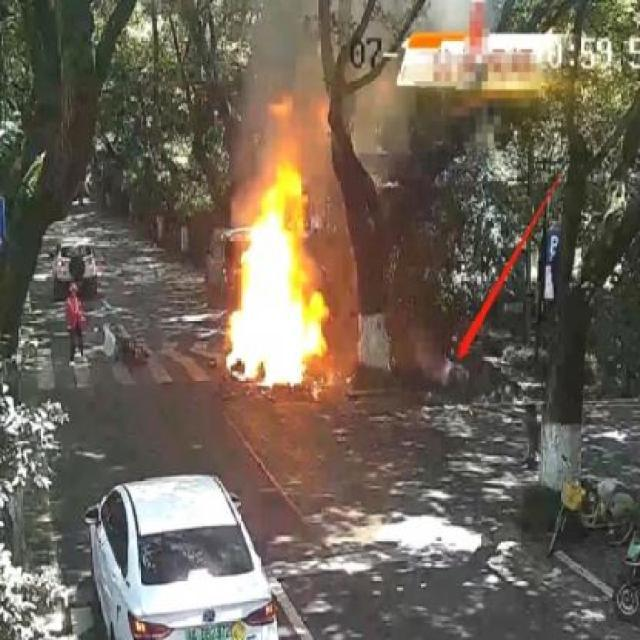Fire: (232, 166, 328, 389)
Smoke: (240, 0, 326, 183)
